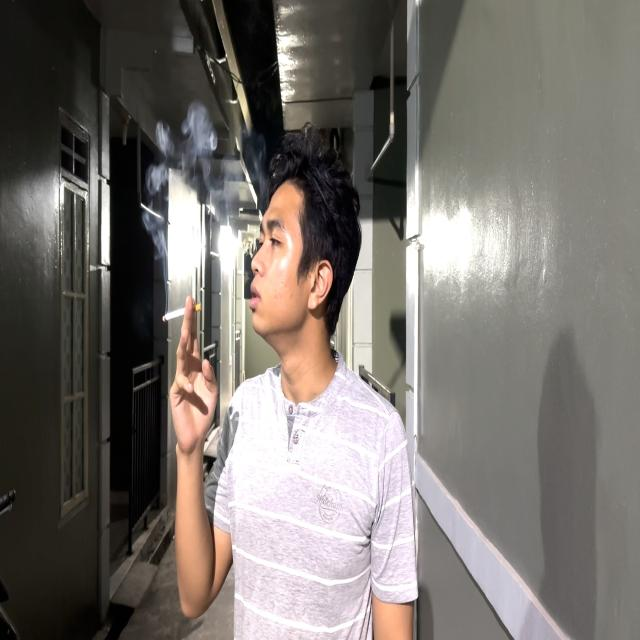cigarette: (160, 297, 204, 327)
smoking: (155, 119, 365, 629)
